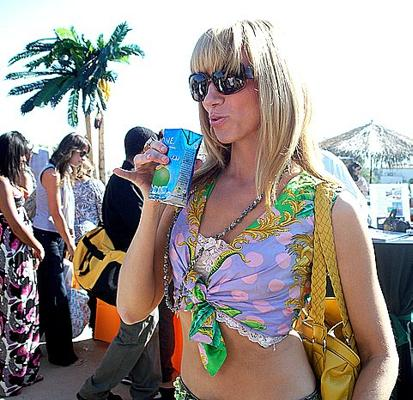person: (115, 17, 400, 400)
